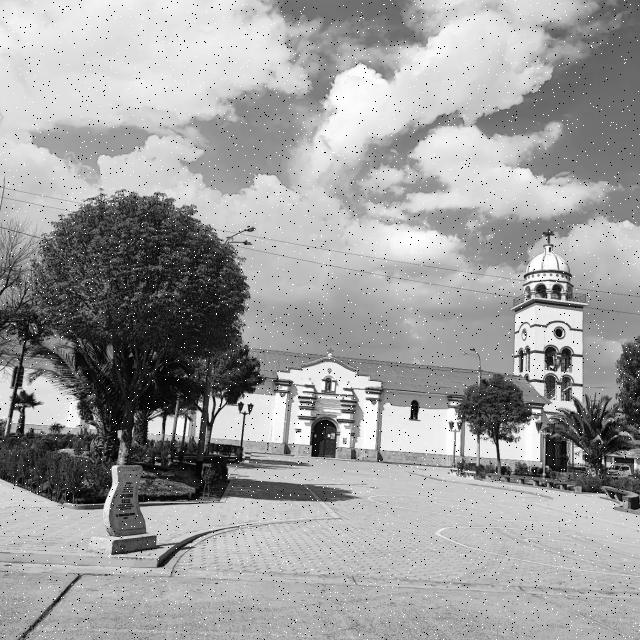CAMPANARIO: (496, 304, 606, 408)
CUPULA: (505, 238, 588, 298)
PORTADA CENTRAL: (288, 404, 364, 467)
TORRES: (518, 208, 597, 492)
colonial-architecture-: (0, 189, 640, 478)
